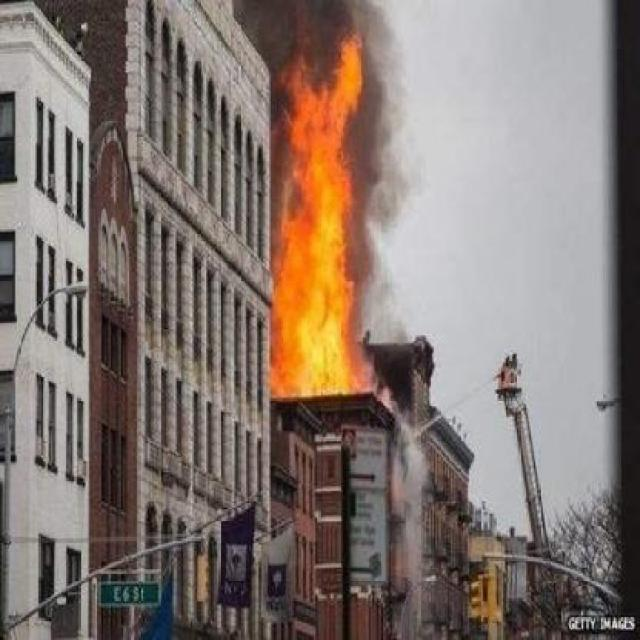Fire: (265, 31, 393, 394)
